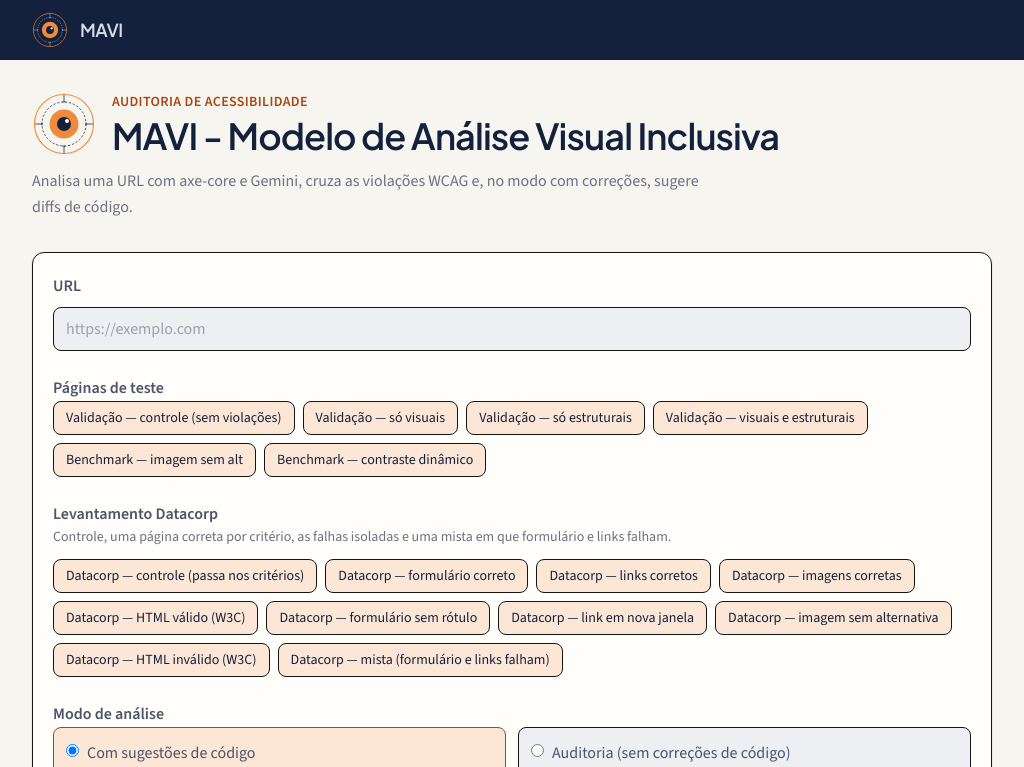
Test: App — submissão de URL › agrupa violações por critério WCAG e mostra descrição, severidade e snippet
The image size is (1024, 767).
In the field labelled "URL": (512, 329) [53,307,971,351], type "https://example.com"
(page scrolled)
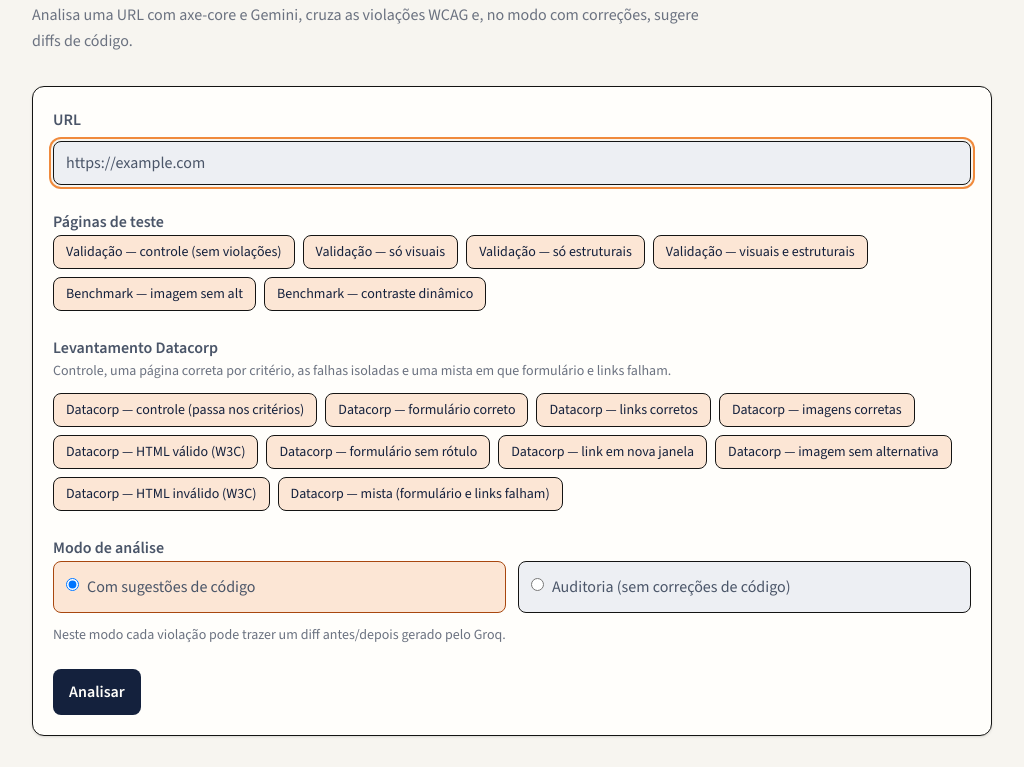
Click the button "Analisar": (97, 692) [53,669,141,715]
(page scrolled)
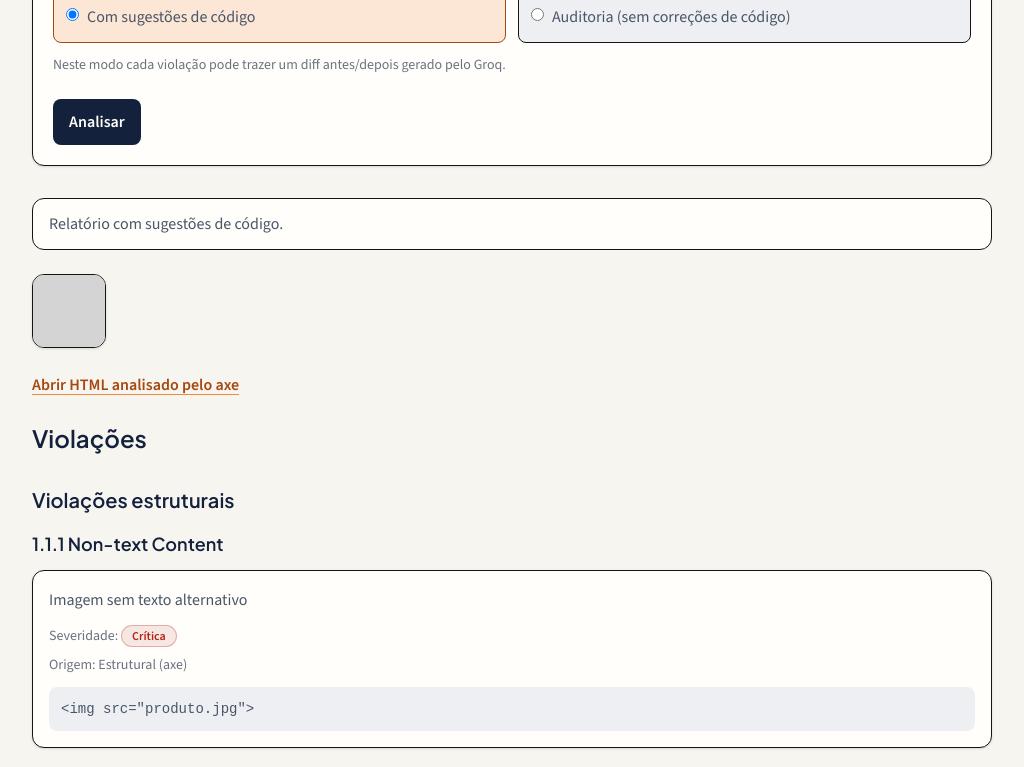
expect the element named "critério 1.1.1 non-text content" is shown: met, box [32,530,992,748]
expect the element named "critério 1.1.1 non-text content" shows "Imagem sem texto alternativo": met, box [49,589,248,610]
expect the element named "critério 1.1.1 non-text content" shows "Crítica": met, box [132,628,166,644]
